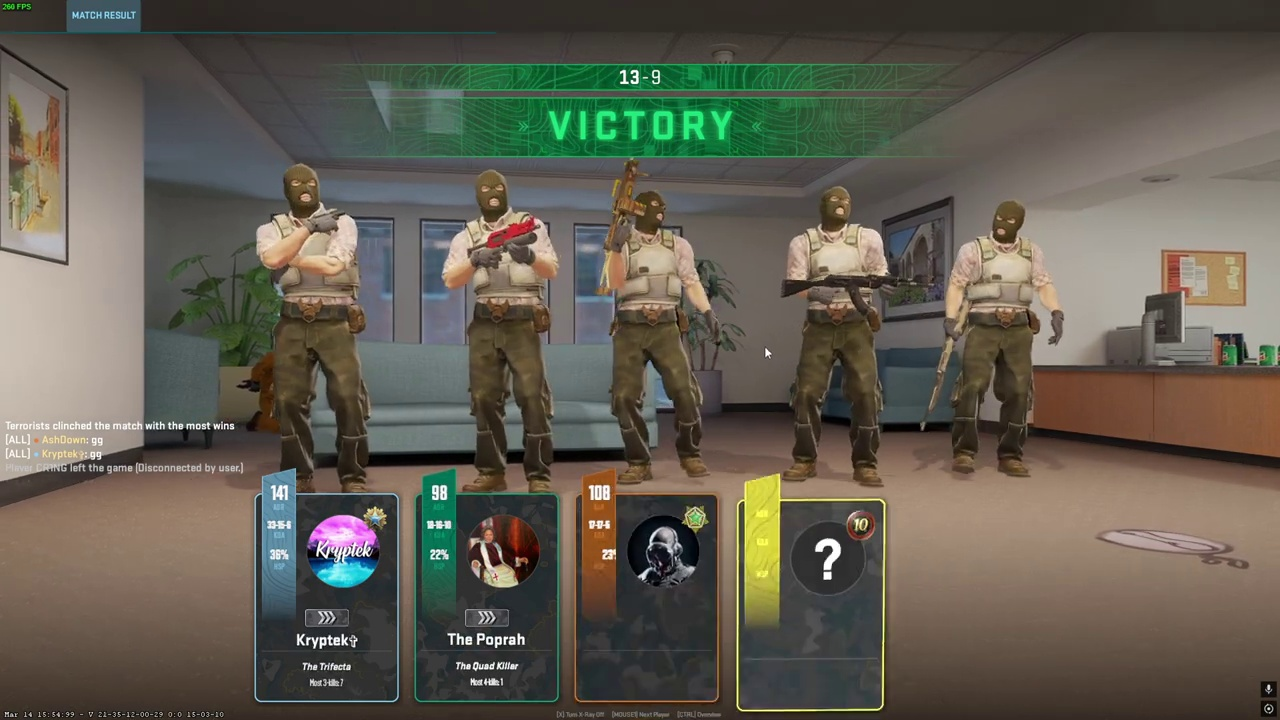Terrorist: (256, 163, 369, 490), (943, 200, 1062, 477), (783, 184, 891, 486), (456, 170, 556, 492), (604, 190, 707, 481)
